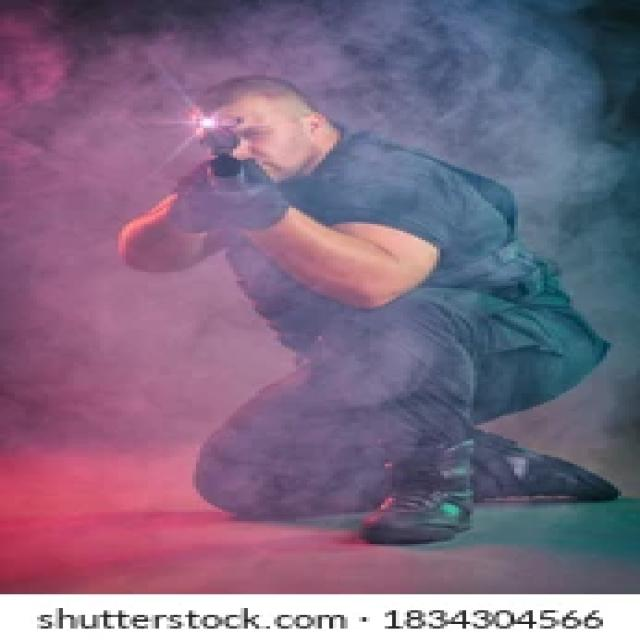soldier: (121, 77, 620, 550)
